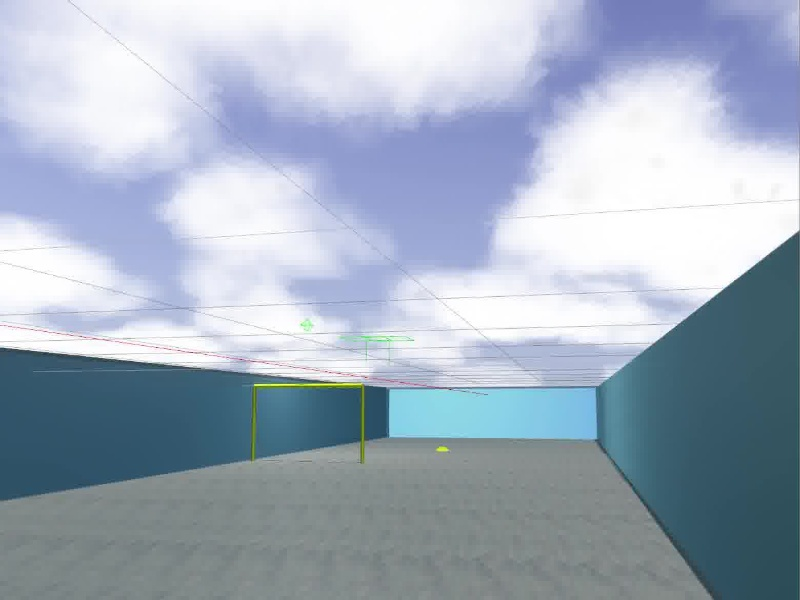gate: (250, 381, 366, 463)
